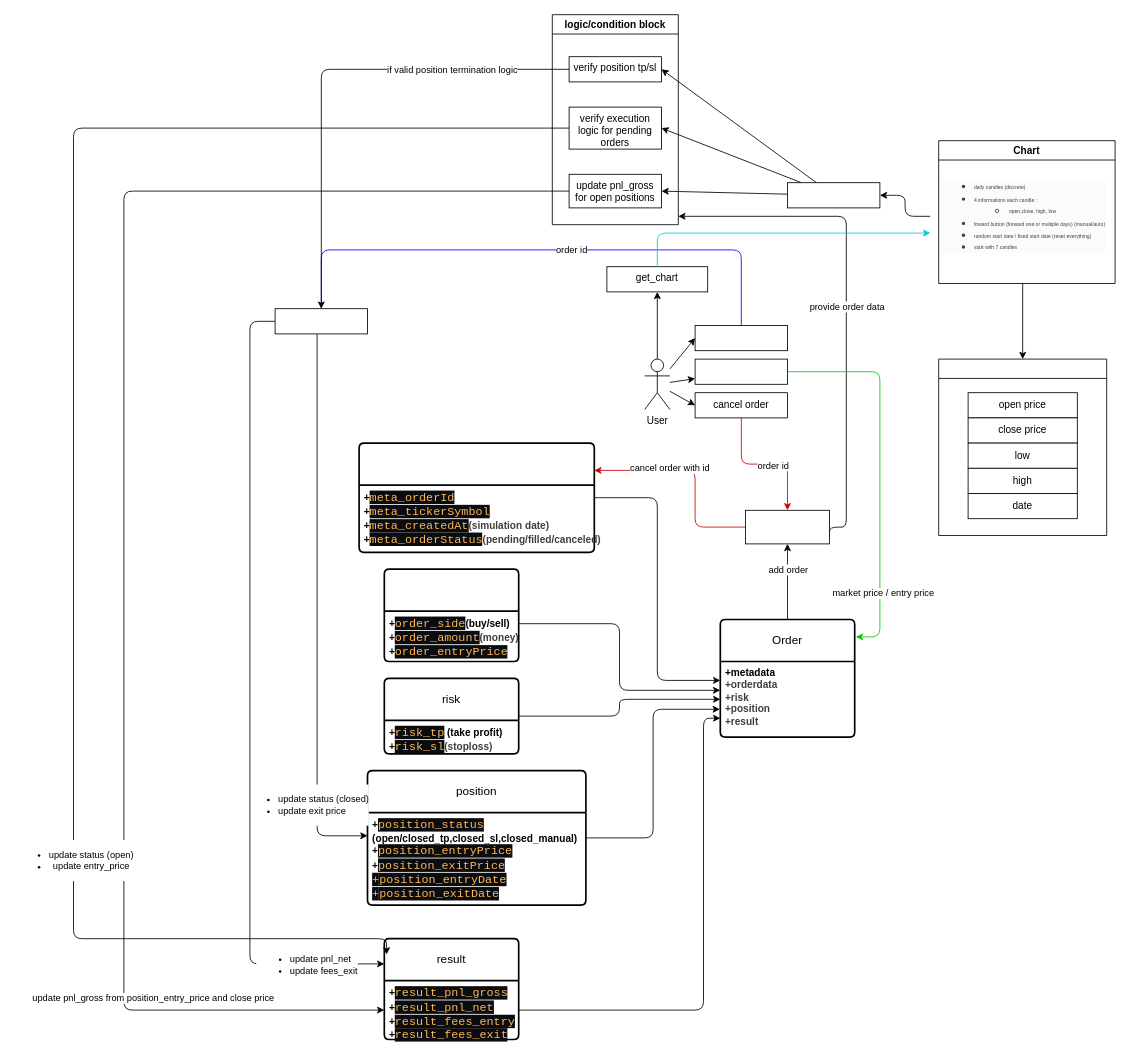
This 1130x1058 diagram has some shape labels left out. Here are the shapes that lost their labels. From the top down, the box of each, then its label:
(787, 182, 880, 208): forward
(274, 308, 368, 334): exit
(694, 325, 788, 351): manual exit
(694, 358, 788, 384): open order
(938, 358, 1107, 536): data
(358, 442, 595, 553): metadata
(745, 509, 830, 544): orderbook
(383, 568, 519, 662): orderdata
